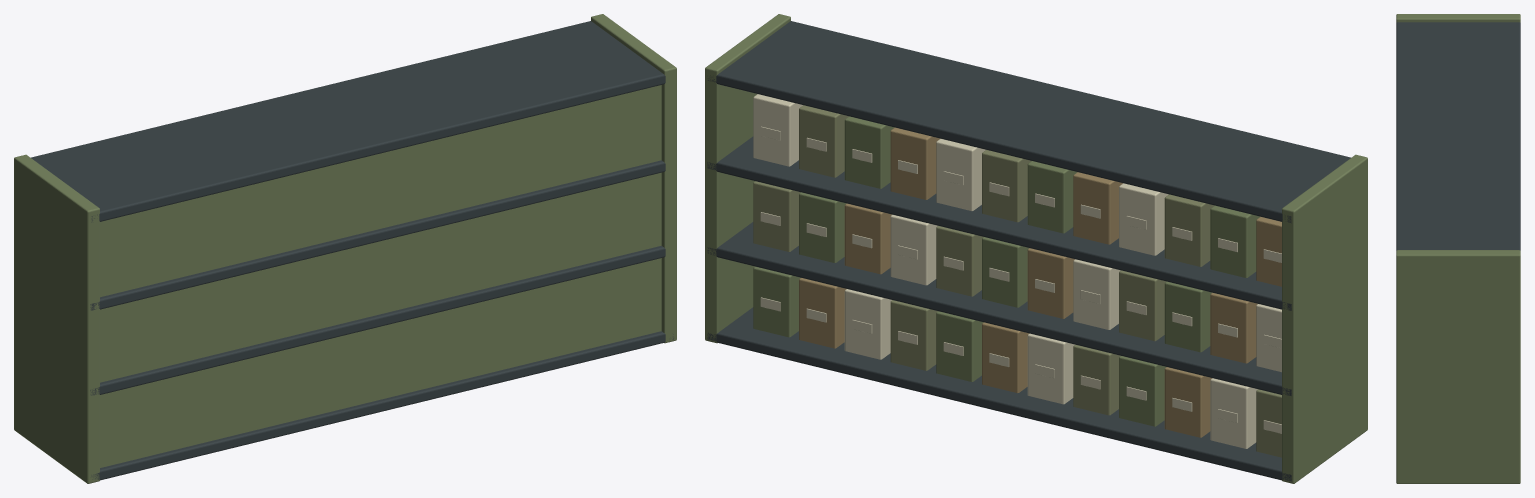
The model's file is archive_rack.glb.
The picture shows the model from 3 angles, left to right: view 1: azimuth 30°, elevation 25°; view 2: azimuth 150°, elevation 25°; view 3: azimuth 270°, elevation 25°; orthographic projection. The views are drawn at different scales.
Visible parts, largest first — view 1: archive_rack; view 2: archive_rack; view 3: archive_rack.
Boxes of the visible parts, left/top/right/bottom form: archive_rack: left=14, top=14, right=676, bottom=483; archive_rack: left=705, top=14, right=1367, bottom=483; archive_rack: left=1396, top=14, right=1520, bottom=483.
Bounding box in the file's own units: 5.42 × 2.4 × 1.18.
